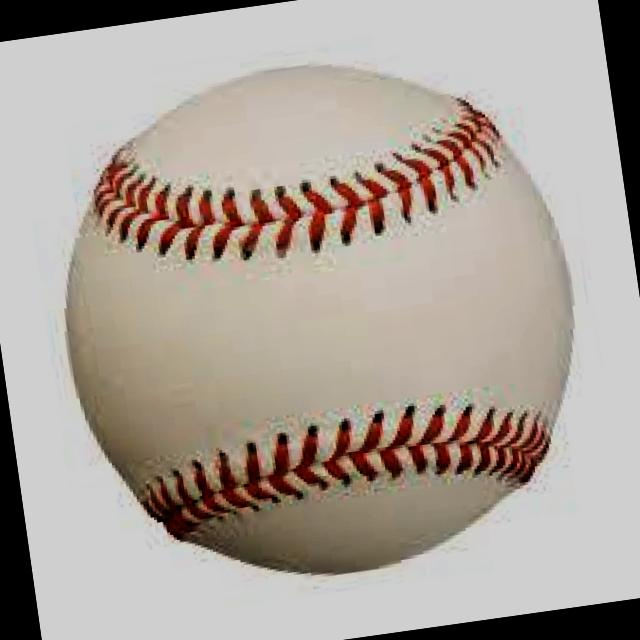ball: (22, 32, 616, 613)
